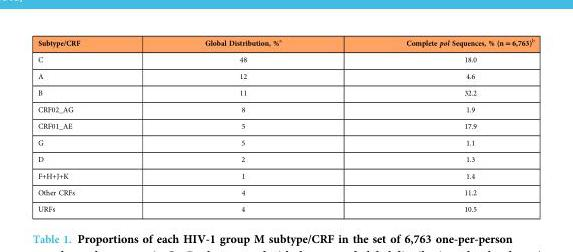table: (37, 36, 533, 212)
table column: (141, 36, 343, 212), (343, 36, 533, 212), (37, 36, 141, 212)
table column header: (37, 36, 533, 50)
table row: (37, 50, 533, 67), (37, 83, 533, 100), (37, 100, 533, 117), (37, 133, 533, 150), (37, 150, 533, 167), (37, 183, 533, 200), (37, 67, 533, 83), (37, 117, 533, 133), (37, 167, 533, 183), (37, 36, 533, 50), (37, 200, 533, 212)
